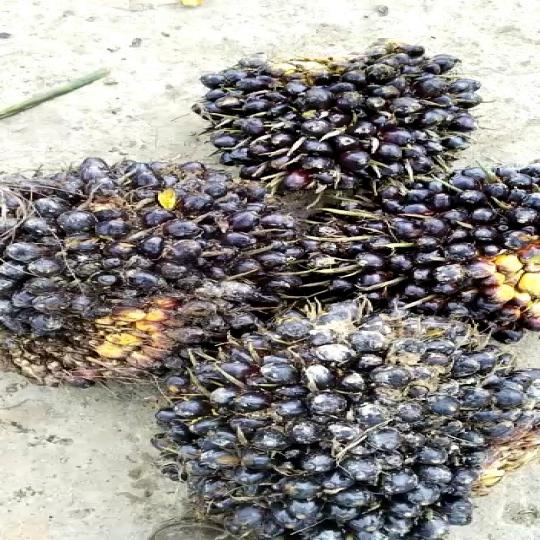mentah: (160, 307, 540, 540), (0, 146, 316, 394), (166, 46, 500, 195), (304, 157, 540, 337)
